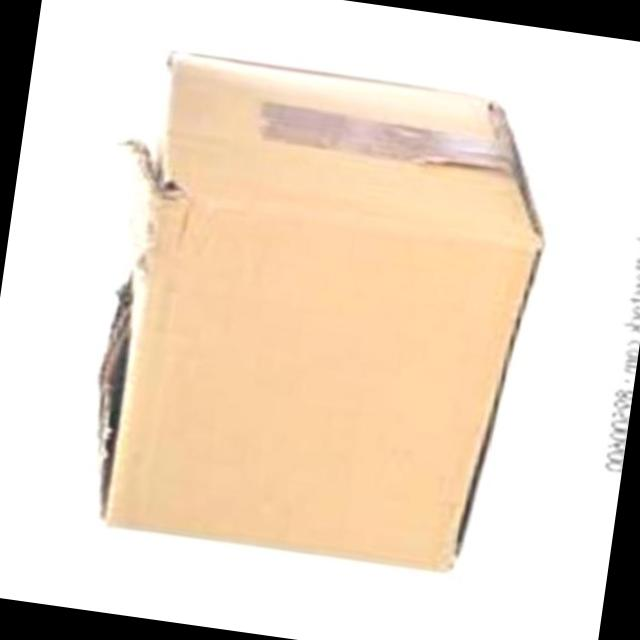box: (97, 56, 524, 563)
tear: (97, 136, 191, 524)
